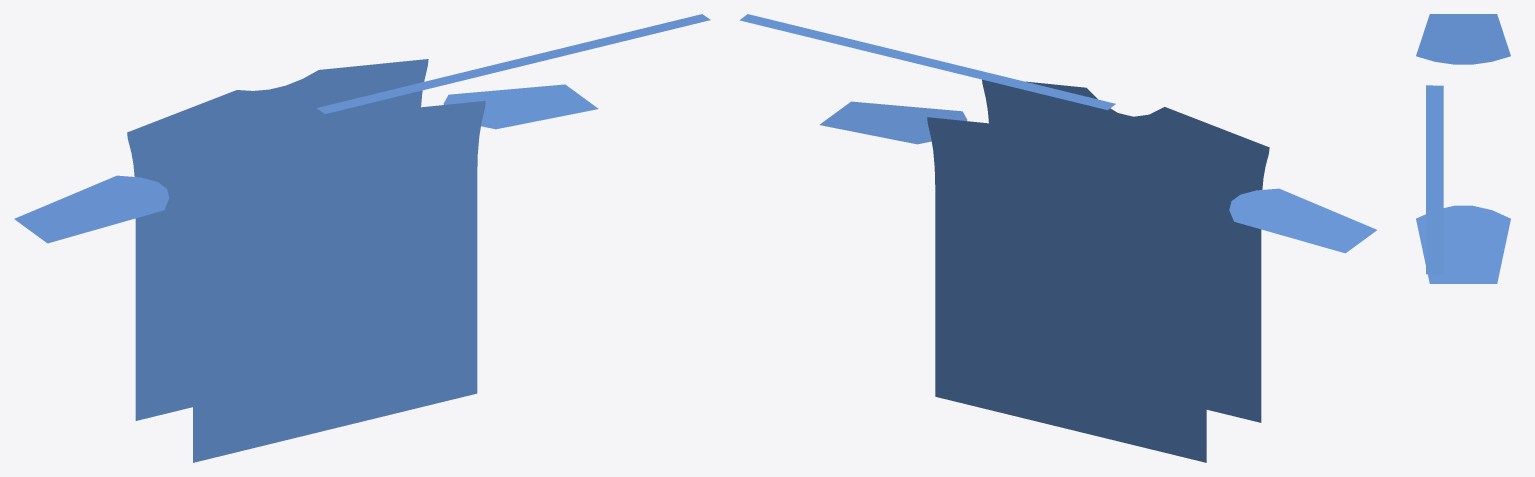
File: rest_mesh.glb
The picture shows the model from 3 angles, left to right: view 1: azimuth 30°, elevation 25°; view 2: azimuth 150°, elevation 25°; view 3: azimuth 270°, elevation 25°; orthographic projection. The views are drawn at different scales.
Visible parts, largest first — view 1: panel.front, panel.back, panel.sleeve.left, panel.sleeve.right, panel.neck_band; view 2: panel.back, panel.front, panel.sleeve.left, panel.sleeve.right, panel.neck_band; view 3: panel.sleeve.right, panel.sleeve.left, panel.neck_band.
Part boxes in pixels (<box>): panel.front: <box>184,101,485,462</box>; panel.back: <box>127,59,428,420</box>; panel.sleeve.left: <box>14,175,169,243</box>; panel.sleeve.right: <box>443,84,598,129</box>; panel.neck_band: <box>316,14,710,113</box>; panel.back: <box>927,117,1214,462</box>; panel.front: <box>982,79,1269,422</box>; panel.sleeve.left: <box>1229,188,1376,253</box>; panel.sleeve.right: <box>819,101,967,144</box>; panel.neck_band: <box>740,14,1115,110</box>; panel.sleeve.right: <box>1416,205,1510,283</box>; panel.sleeve.left: <box>1416,14,1510,64</box>; panel.neck_band: <box>1426,85,1443,274</box>.
Size of the model in its own units: 1.54 by 0.6807 by 0.23.
